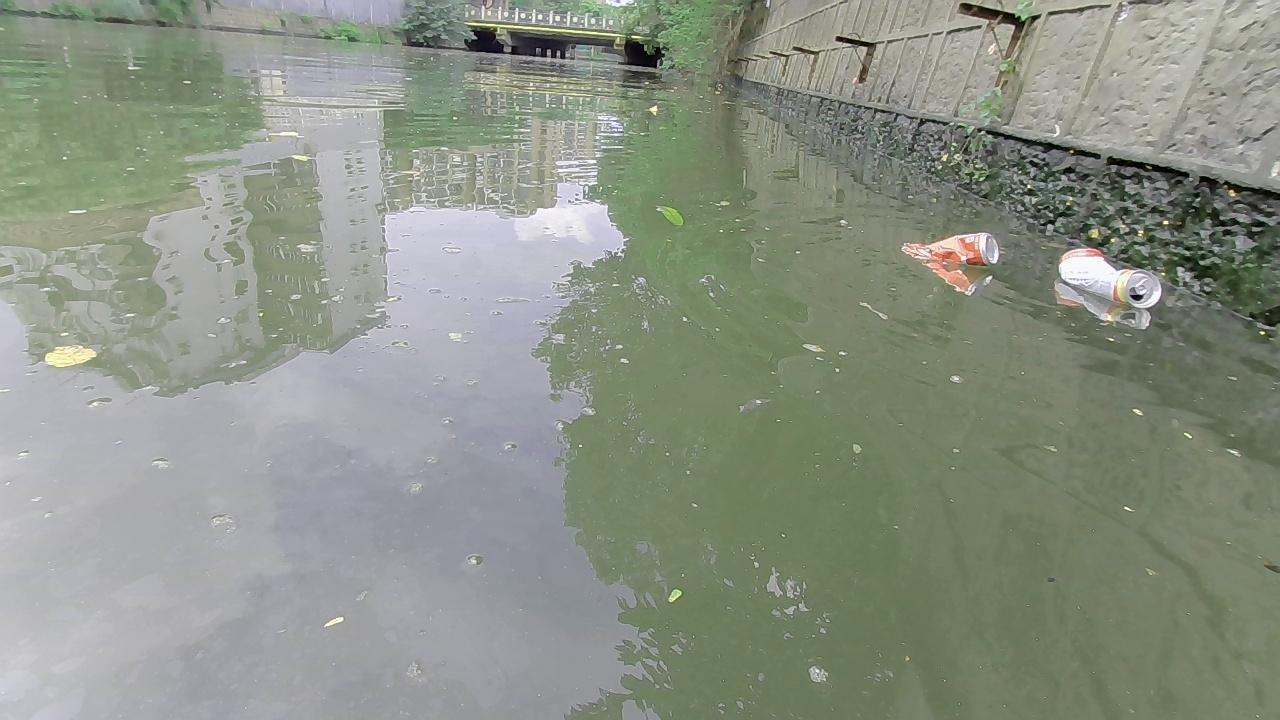Metal: (1056, 246, 1163, 310), (902, 230, 1000, 267)
